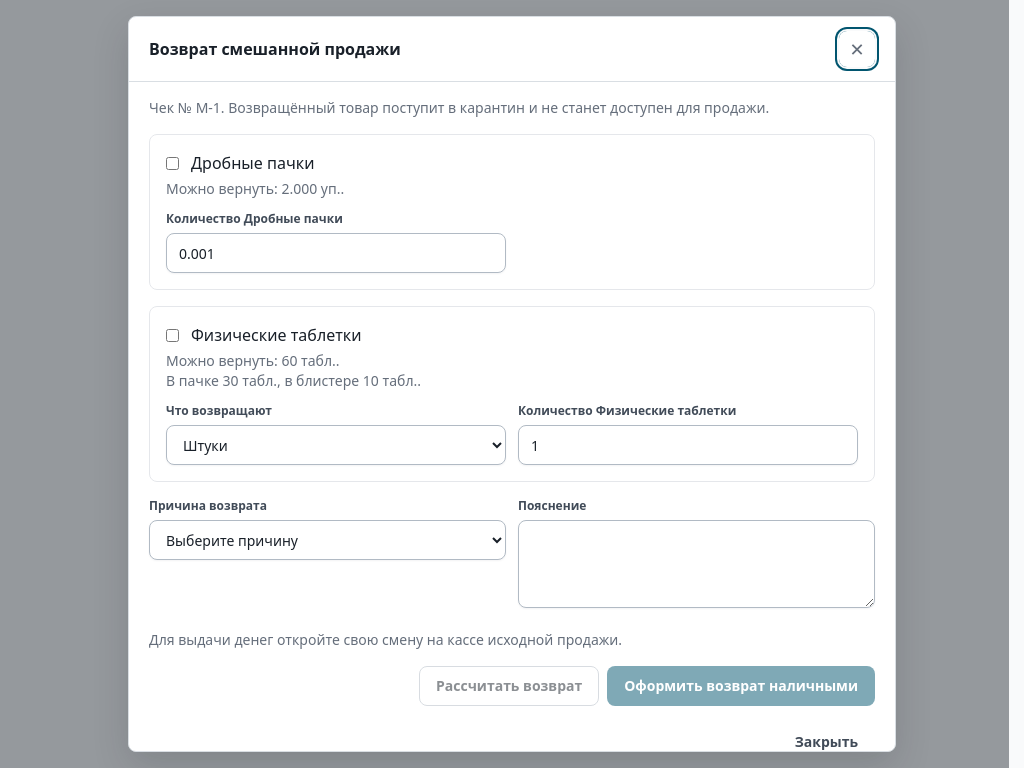
Test case: mixed refund dialog › reviews both inventory kinds without an open shift, but cannot pay
What coordinates should you click on to do the following:
click the checkbox labelled "Дробные пачки"
I would click on:
 (172, 163)
Its box is [166, 156, 179, 170].
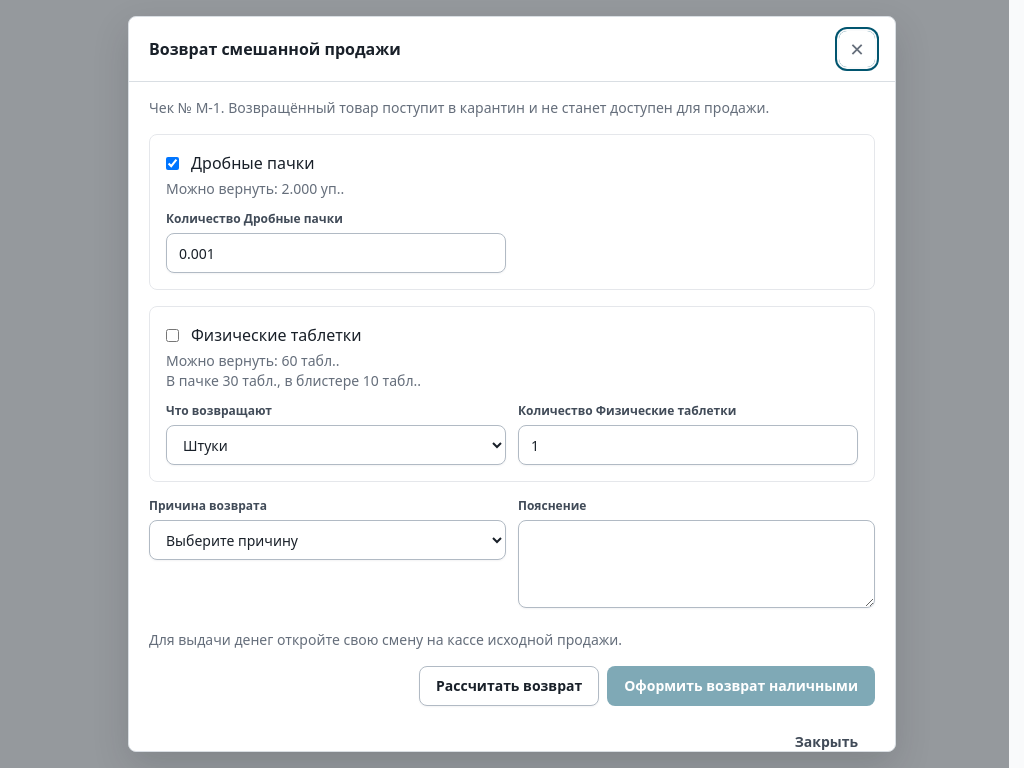
What coordinates should you click on to do the following:
click the checkbox labelled "Физические таблетки"
I would click on:
 (172, 335)
Its box is [166, 328, 179, 342].
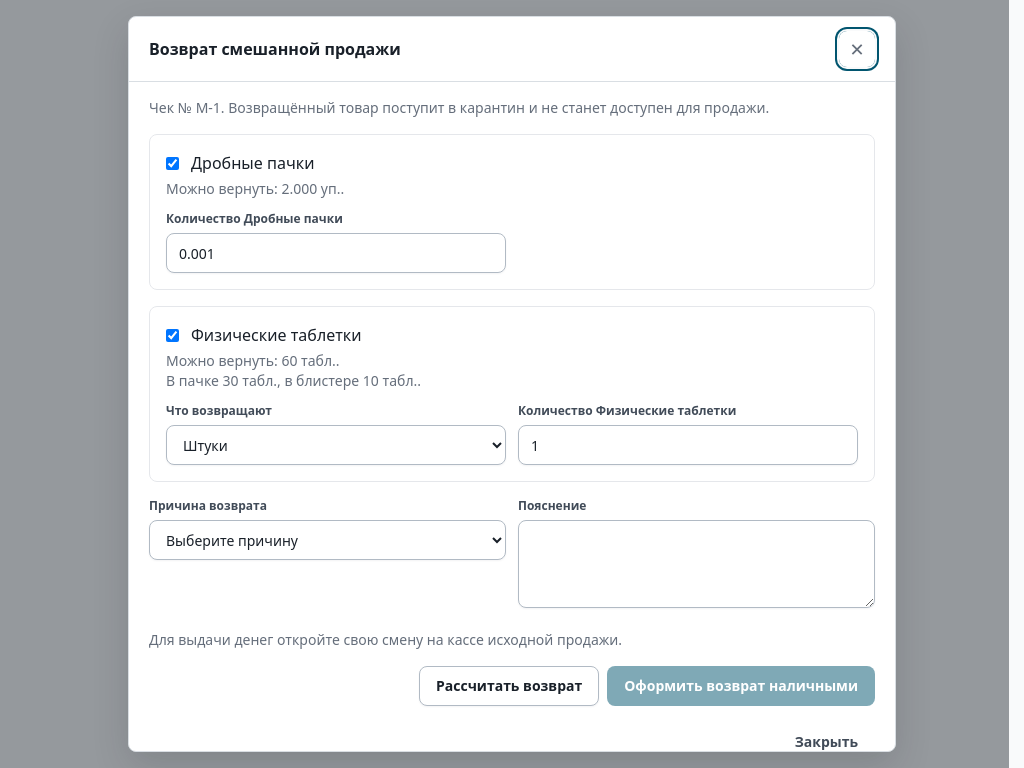
What coordinates should you click on to do the following:
click the button "Рассчитать возврат"
I would click on:
 (509, 686)
Its box is [419, 666, 599, 706].
(page scrolled)
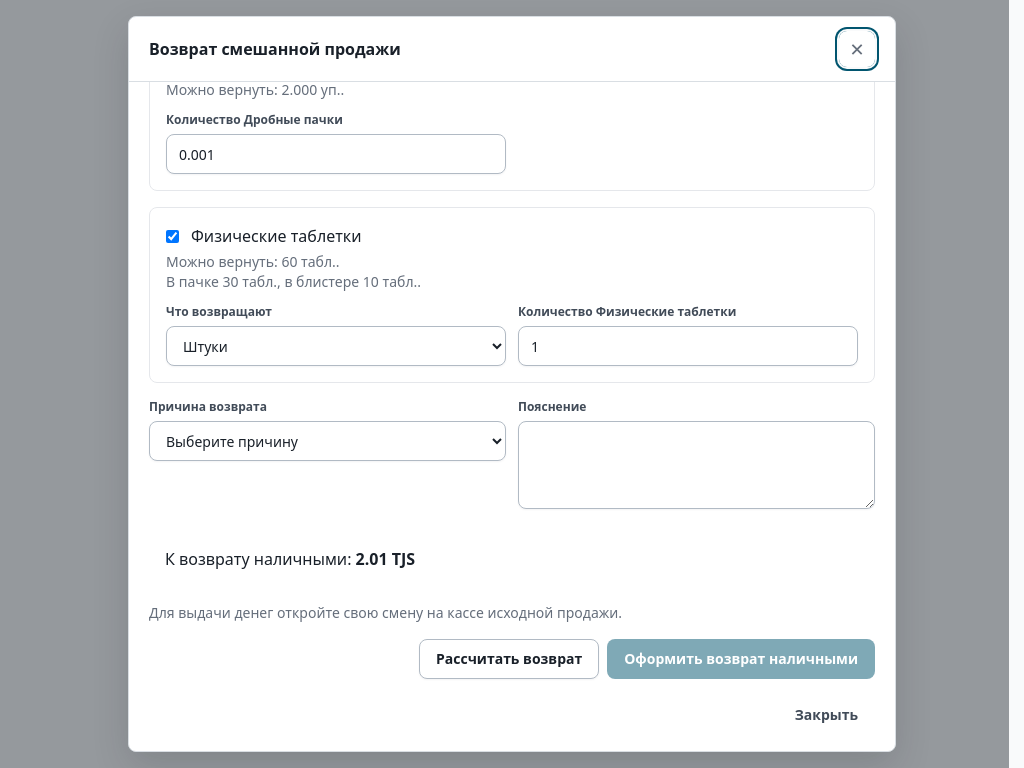
Expected: the text "Можно вернуть: 2.000 уп.." is shown, [166, 82, 344, 99]
Expected: the text "2.01 TJS" is shown, [356, 548, 415, 570]
